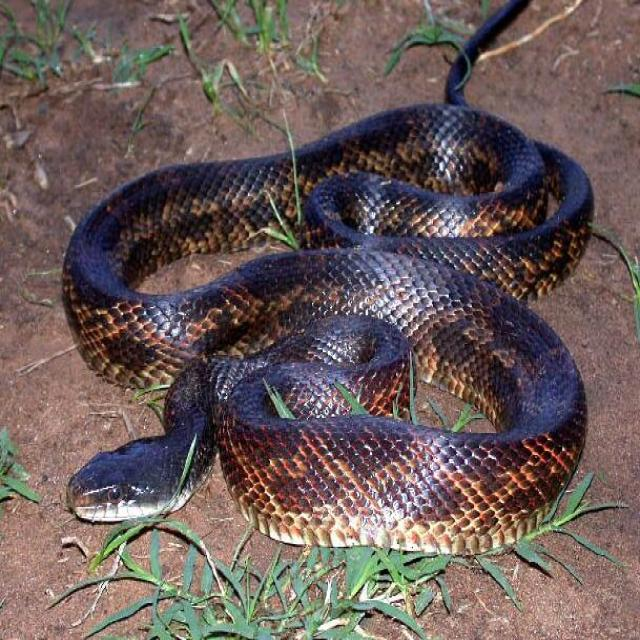Snake: (60, 0, 595, 556)
